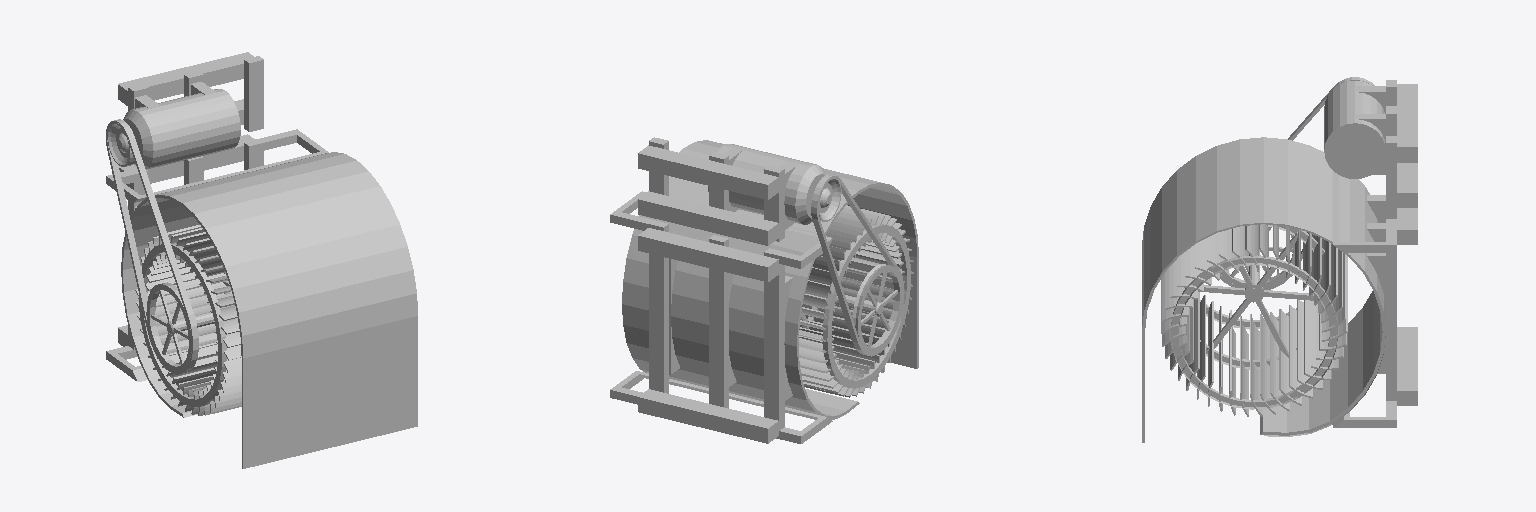
Rendered from fan.obj.
3 views of the same model, side by side, from view 1: azimuth 30°, elevation 25°; view 2: azimuth 150°, elevation 25°; view 3: azimuth 270°, elevation 25° (orthographic).
Visible parts, largest first — view 1: Fan_FanGeom; view 2: Fan_FanGeom; view 3: Fan_FanGeom.
Boxes of the visible parts, x1,y1,x2,y2 form: Fan_FanGeom: [106, 52, 417, 468]; Fan_FanGeom: [610, 137, 918, 443]; Fan_FanGeom: [1142, 77, 1417, 442].
Size of the model in its own units: 1.26 by 1.72 by 1.51.